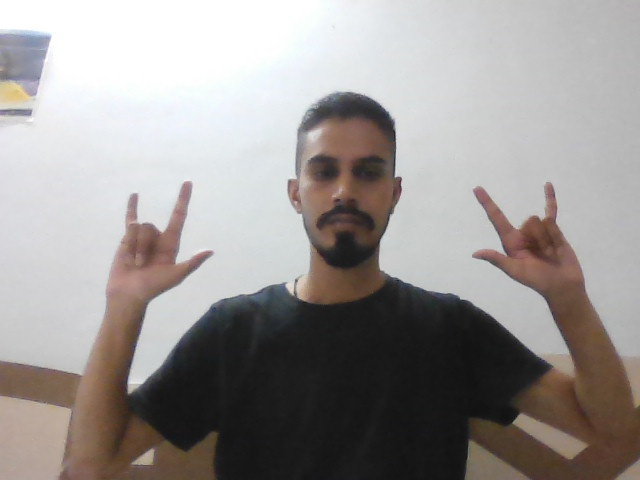ILoveYou: (107, 172, 220, 299)
